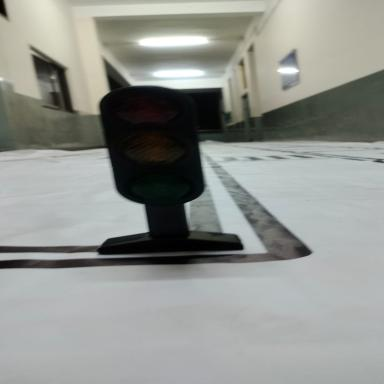green: (56, 74, 274, 281)
